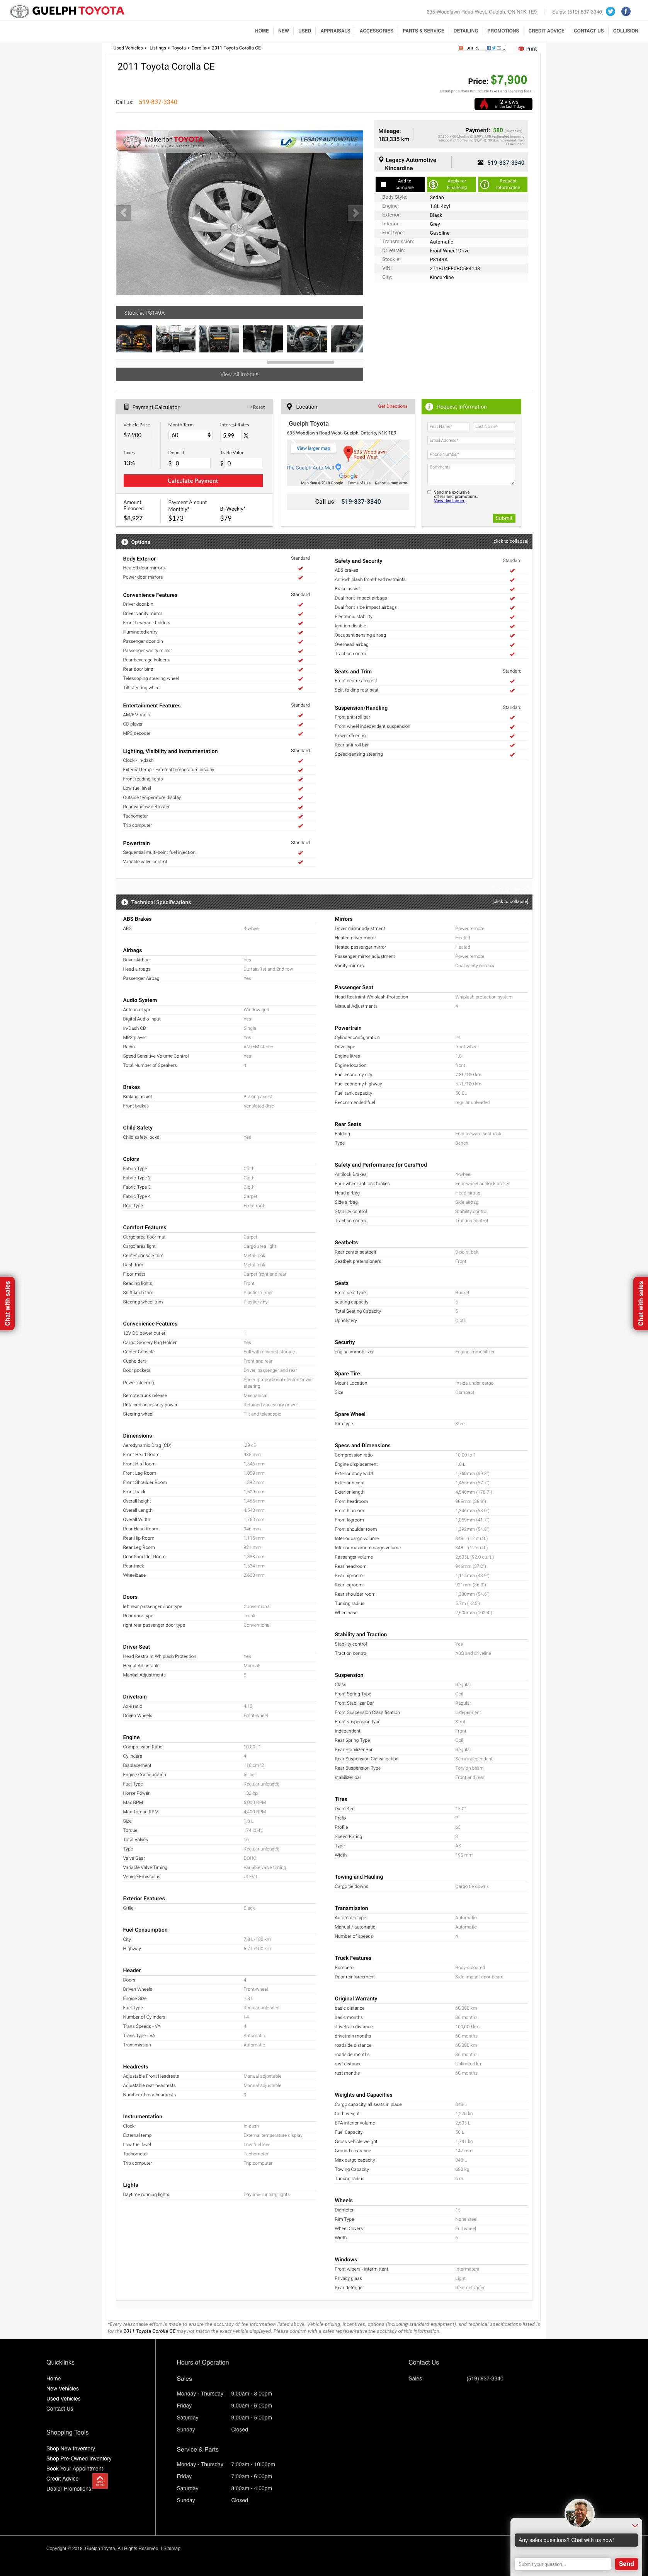car: (353, 209, 359, 218)
